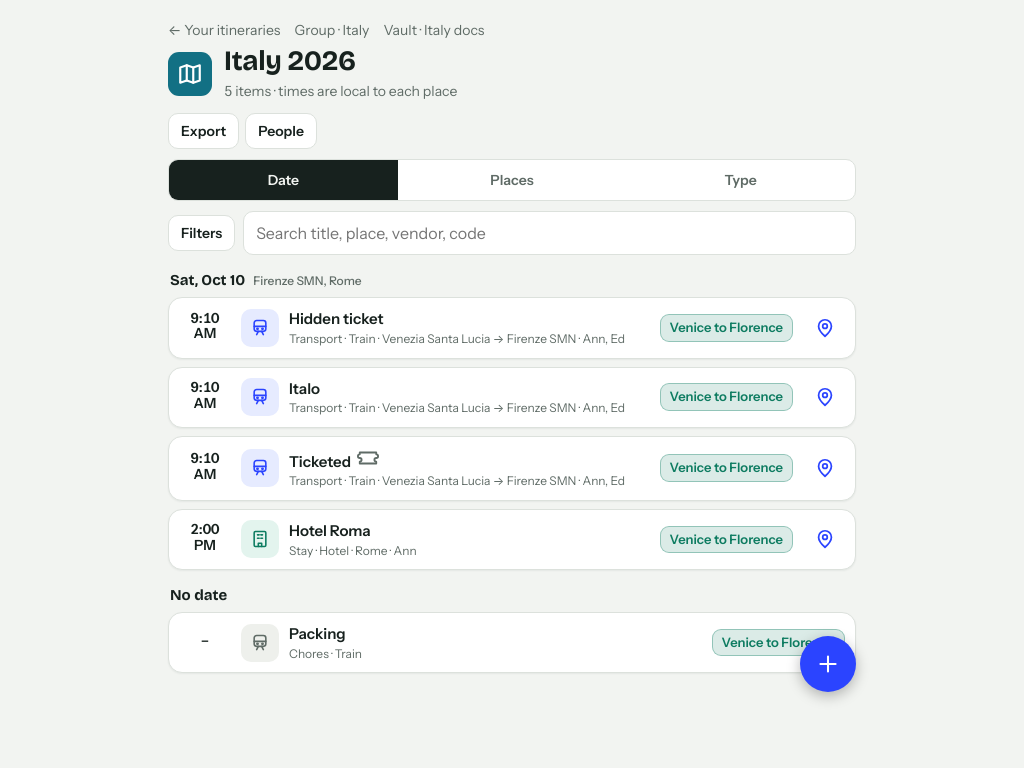
itinerary timeline › filters by category and by person, and shows a ticket icon for linked items
expect the number of elements named "Has a vault ticket" is 1: met, box [357,447,379,469]
expect the button "Stays" is not shown: met
Step 1. Click the button "Filters" → click(202, 233), box [168,215,235,251]
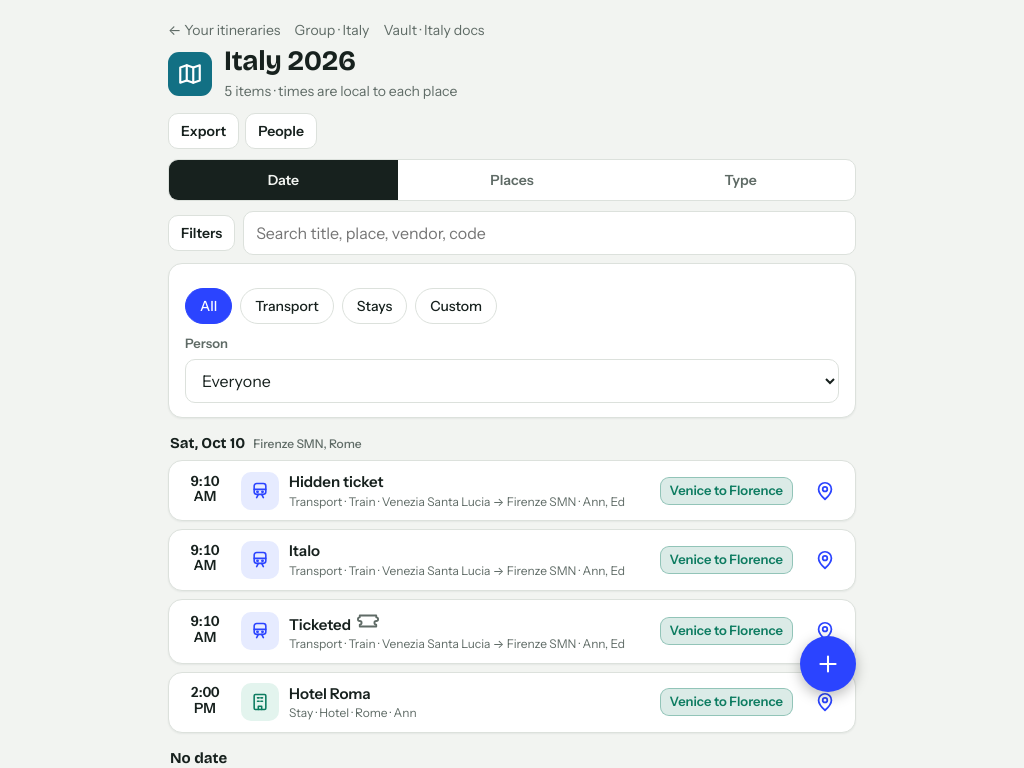
Step 2. Click the button "Stays" → click(374, 306), box [342,288,407,324]
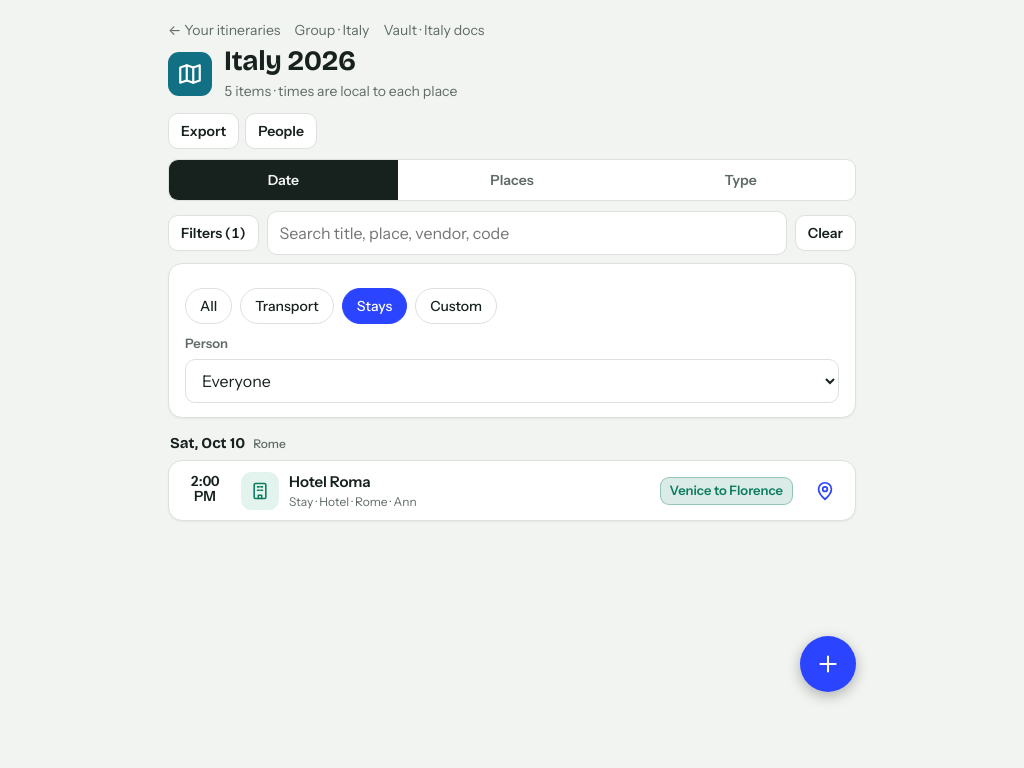
expect the text "Hotel Roma" is shown: met, box [289,472,371,491]
expect the button "Filters (1)" is shown: met, box [168,215,259,251]
expect the link "Italo" is gone: met
Step 3. Click the button "All" → click(209, 306), box [185,288,232,324]
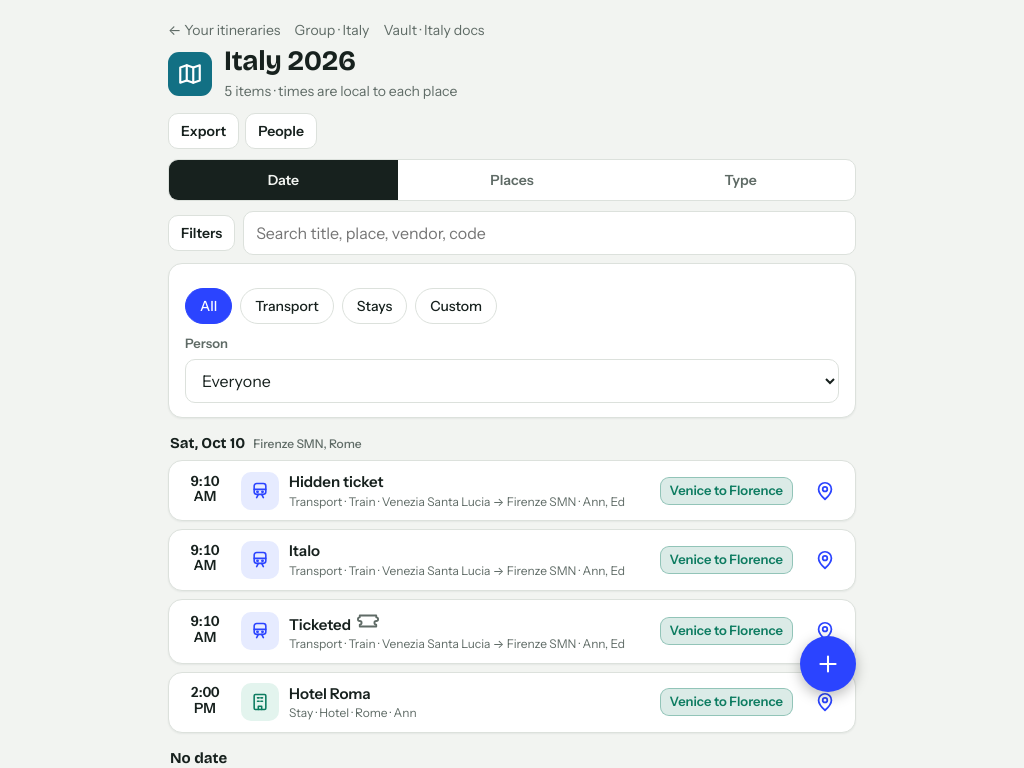
Step 4. Select "Ed" in the dropdown labelled "Person" → (512, 381), box [185,359,839,403]
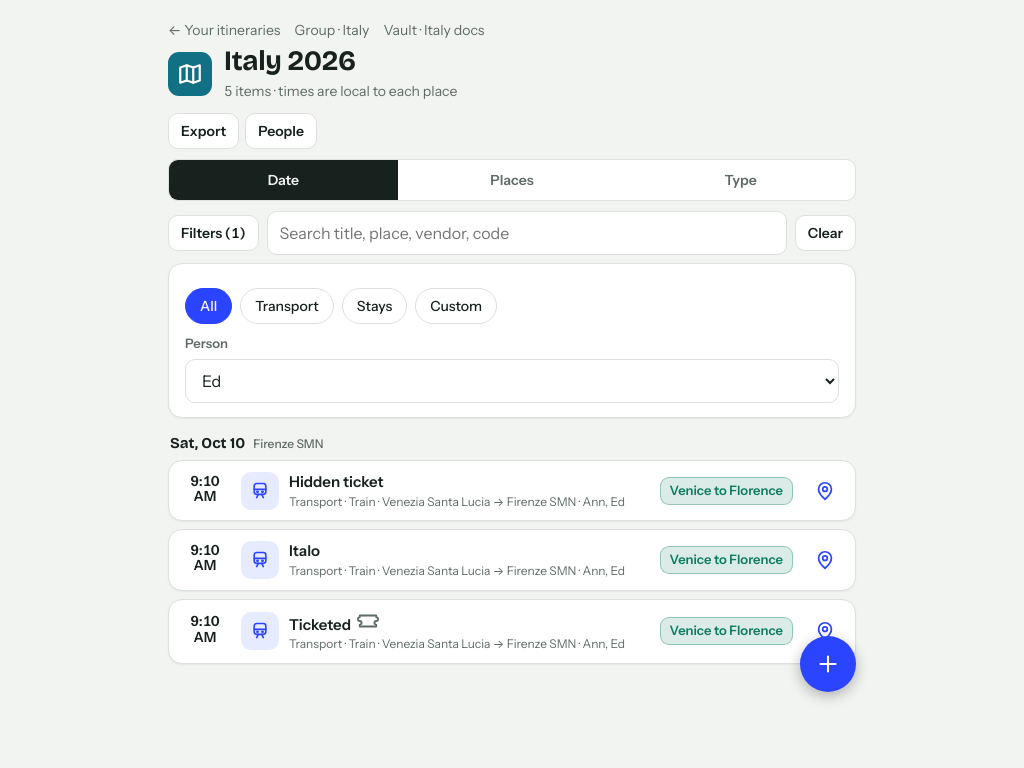
expect the text "Italo" is shown: met, box [289,541,320,560]
expect the link "Hotel Roma" is gone: met
Step 5. Click the button "Clear" → click(825, 233), box [795,215,856,251]
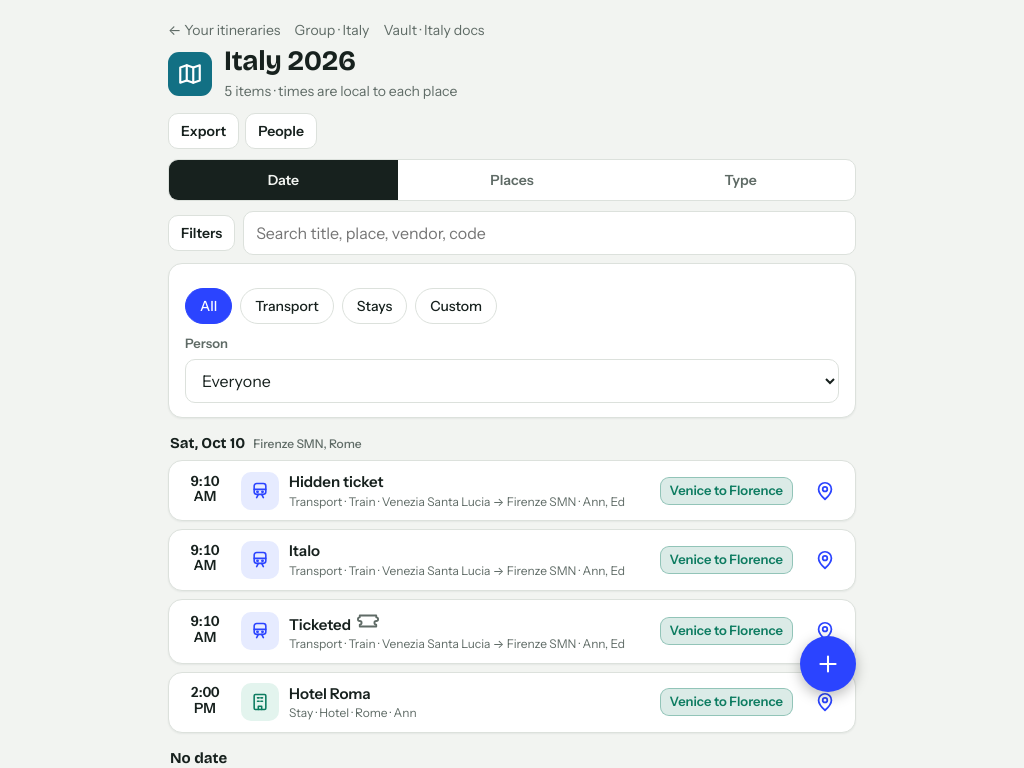
expect the text "Hotel Roma" is shown: met, box [289,684,371,703]
